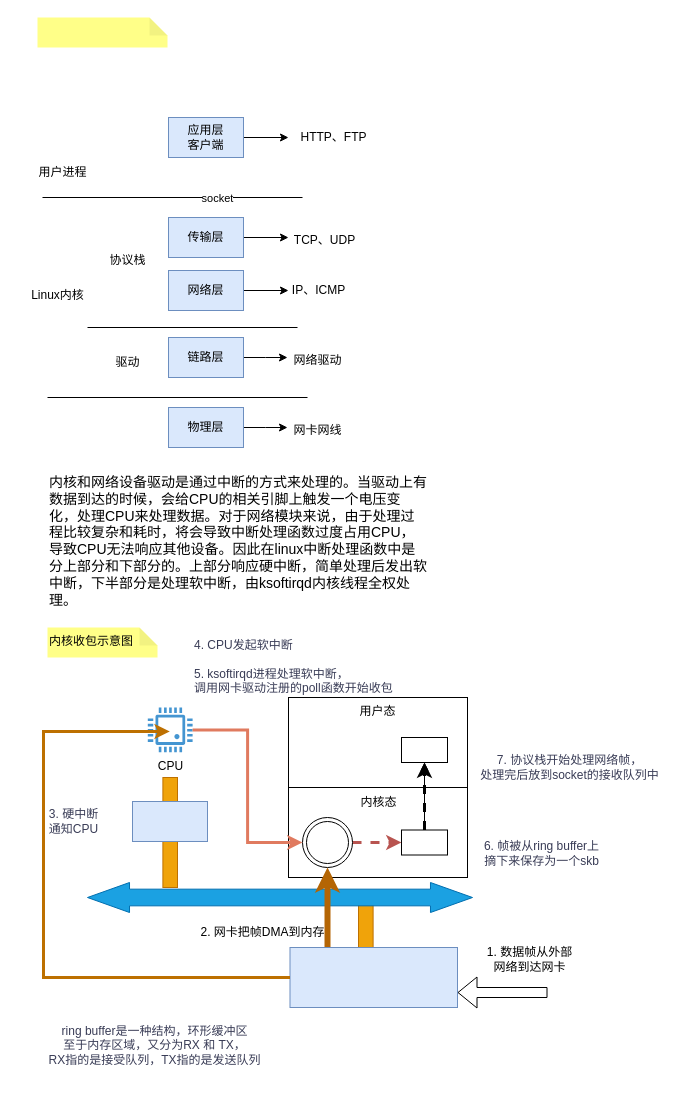
Image size: 688x1108. Some labels were removed from this diagram. Here are the shapes that lost their labels. From the top down, the centre of each, then its label:
At point (102, 32): "TCP/IP 网络分层".
At point (170, 821): "Bridge".
At point (279, 897): "PCle总线".
At point (373, 977): "网卡".
